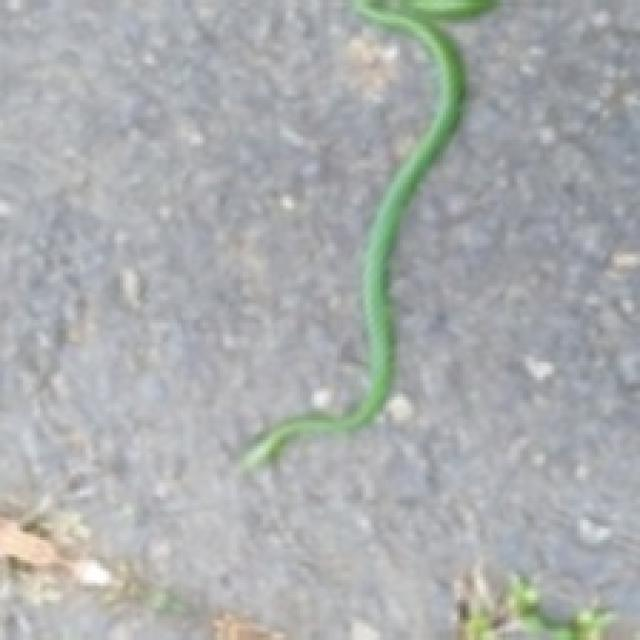red-tailed green ratsnake: (240, 0, 494, 469)
